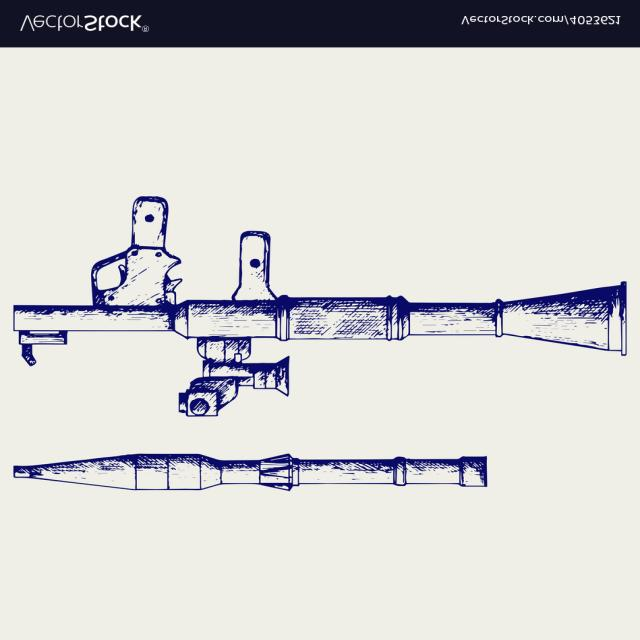Gun: (7, 168, 640, 424)
